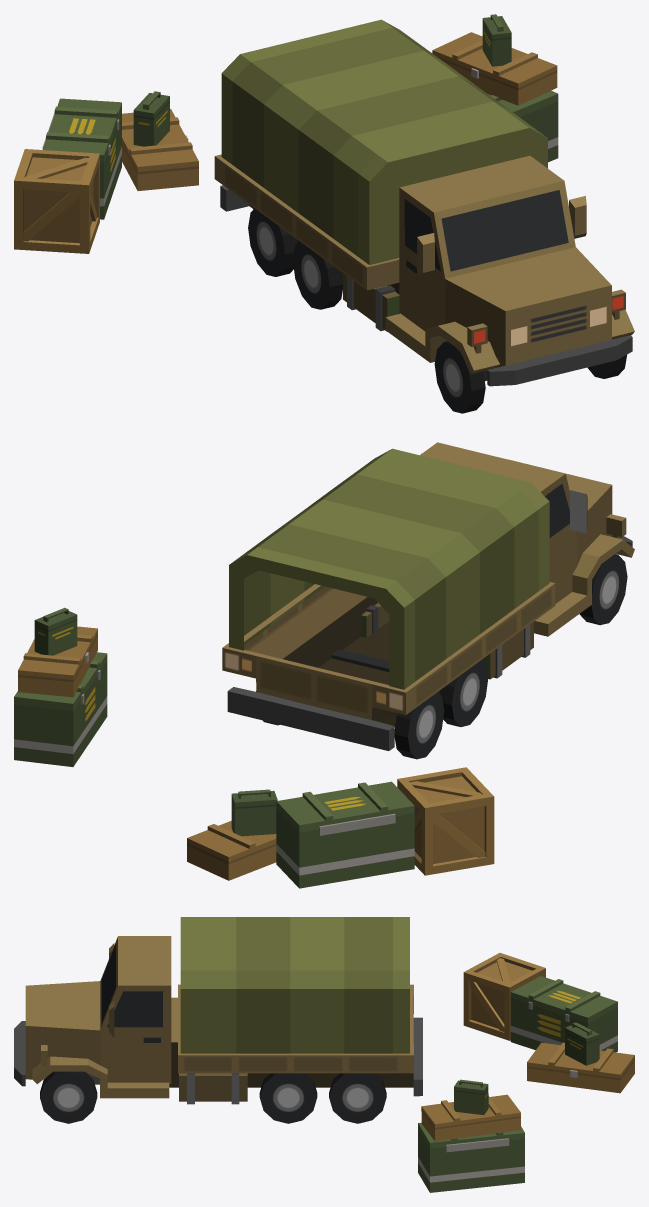
The model's file is spawn.gltf.
The picture shows the model from 3 angles, top to bottom: view 1: azimuth 30°, elevation 25°; view 2: azimuth 150°, elevation 25°; view 3: azimuth 270°, elevation 25°; orthographic projection. The views are drawn at different scales.
Parts seen in each view (by area): view 1: SK_Veh_Truck_Troop_02, SA_Prop_AmmoPile_M_01, SA_Prop_AmmoPile_S_01, Wheel_fr.001, Wheel_rr.001, Wheel_rr2.001; view 2: SK_Veh_Truck_Troop_02, SA_Prop_AmmoPile_M_01, SA_Prop_AmmoPile_S_01, Wheel_rr2.001, Wheel_rr.001, Wheel_fr.001; view 3: SK_Veh_Truck_Troop_02, SA_Prop_AmmoPile_M_01, SA_Prop_AmmoPile_S_01, Wheel_fl.001, Wheel_rl.001, Wheel_rl2.001.
Boxes of the visible parts, x1,y1,x2,y2 form: SK_Veh_Truck_Troop_02: (214, 19, 634, 386); SA_Prop_AmmoPile_M_01: (14, 91, 198, 253); SA_Prop_AmmoPile_S_01: (432, 14, 558, 162); Wheel_fr.001: (434, 341, 485, 413); Wheel_rr.001: (292, 241, 342, 309); Wheel_rr2.001: (248, 208, 297, 276); SK_Veh_Truck_Troop_02: (222, 442, 634, 750); SA_Prop_AmmoPile_M_01: (187, 767, 494, 888); SA_Prop_AmmoPile_S_01: (14, 607, 107, 766); Wheel_rr2.001: (394, 692, 444, 759); Wheel_rr.001: (439, 660, 488, 726); Wheel_fr.001: (579, 554, 627, 625); SK_Veh_Truck_Troop_02: (14, 917, 422, 1104); SA_Prop_AmmoPile_M_01: (463, 953, 634, 1093); SA_Prop_AmmoPile_S_01: (418, 1079, 524, 1192); Wheel_fl.001: (40, 1071, 97, 1123); Wheel_rl.001: (259, 1073, 317, 1123); Wheel_rl2.001: (329, 1073, 386, 1123).
Size of the model in its own units: 11.86 by 4.45 by 16.41.
2 materials, 2 textured.
